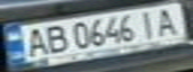0: (69, 19, 90, 49)
4: (103, 14, 124, 45)
6: (87, 16, 109, 47), (118, 11, 139, 43)
A: (151, 4, 187, 37), (18, 25, 51, 58)
B: (39, 22, 72, 55)
I: (133, 8, 163, 39)
